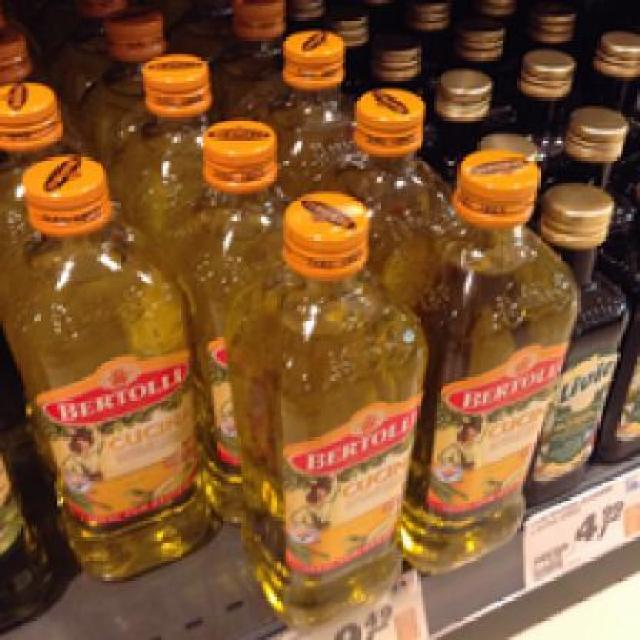Oil: (0, 151, 217, 580), (220, 188, 429, 628), (383, 148, 574, 578)
